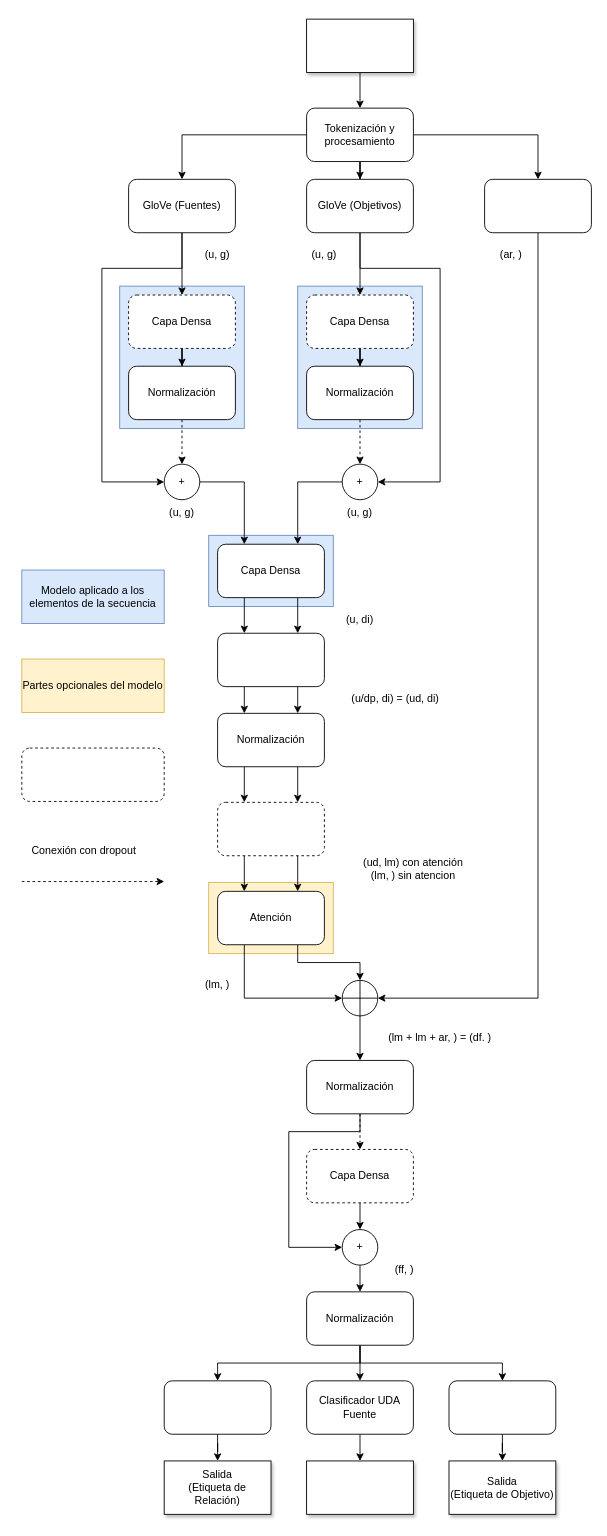
Some shapes in this 607 by 1536 pixel diagram are drawn without their labels. Here are the shapes that lost their labels. From the top down, the centre of each, then its label:
the point at 360,47: Entrada (UDAs, Dist Arg)
the point at 537,205: Distancia Argumentativa
the point at 270,659: Average Pooling
the point at 92,774: Modelo con regularización y dropout interno
the point at 270,828: LSTM Bidireccional
the point at 217,1407: Clasificador Relación
the point at 502,1407: Clasificador UDA Objetivo
the point at 360,1488: Salida (Etiqueta de Fuente)
